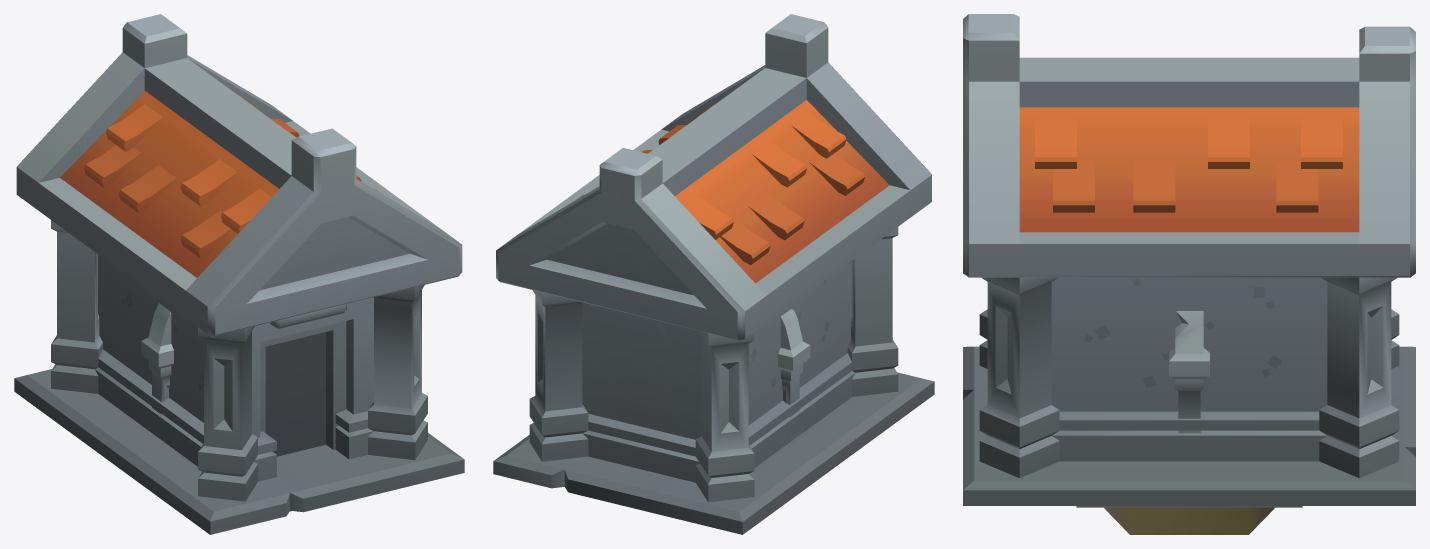
Rendered from halloween.glb.
3 renders of one model, left to right at view 1: azimuth 30°, elevation 25°; view 2: azimuth 150°, elevation 25°; view 3: azimuth 270°, elevation 25°, orthographic. The views are drawn at different scales.
Visible parts, largest first — view 1: crypt, arch; view 2: crypt, arch; view 3: crypt, floor_dirt_grave, arch.
Part boxes in pixels (x1,y1,x2,y2): crypt: (14, 14, 464, 534); arch: (141, 303, 173, 439); crypt: (493, 14, 934, 534); arch: (778, 309, 810, 441); crypt: (963, 14, 1415, 505); floor_dirt_grave: (1104, 507, 1274, 534); arch: (1169, 311, 1209, 433).
Size of the model in its own units: 6 by 9.5 by 8.
1 material, 1 textured.
